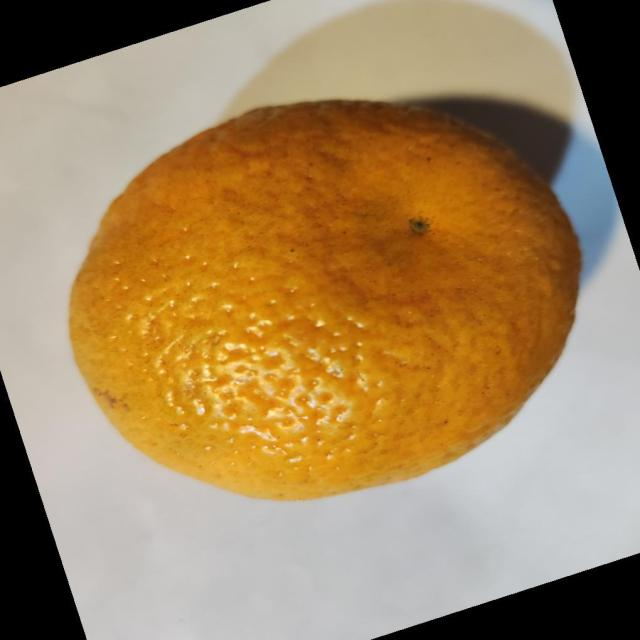fresh orange: (66, 97, 583, 501)
